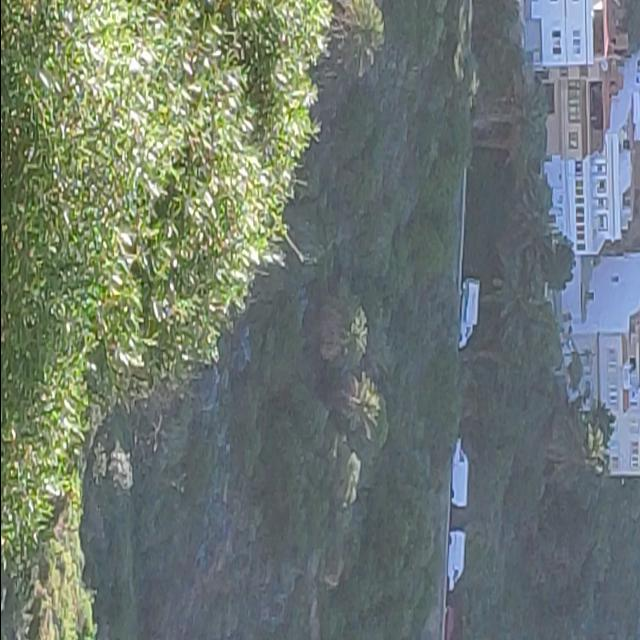Palm-Trees: (326, 0, 384, 90), (315, 291, 367, 375), (322, 375, 378, 433)
